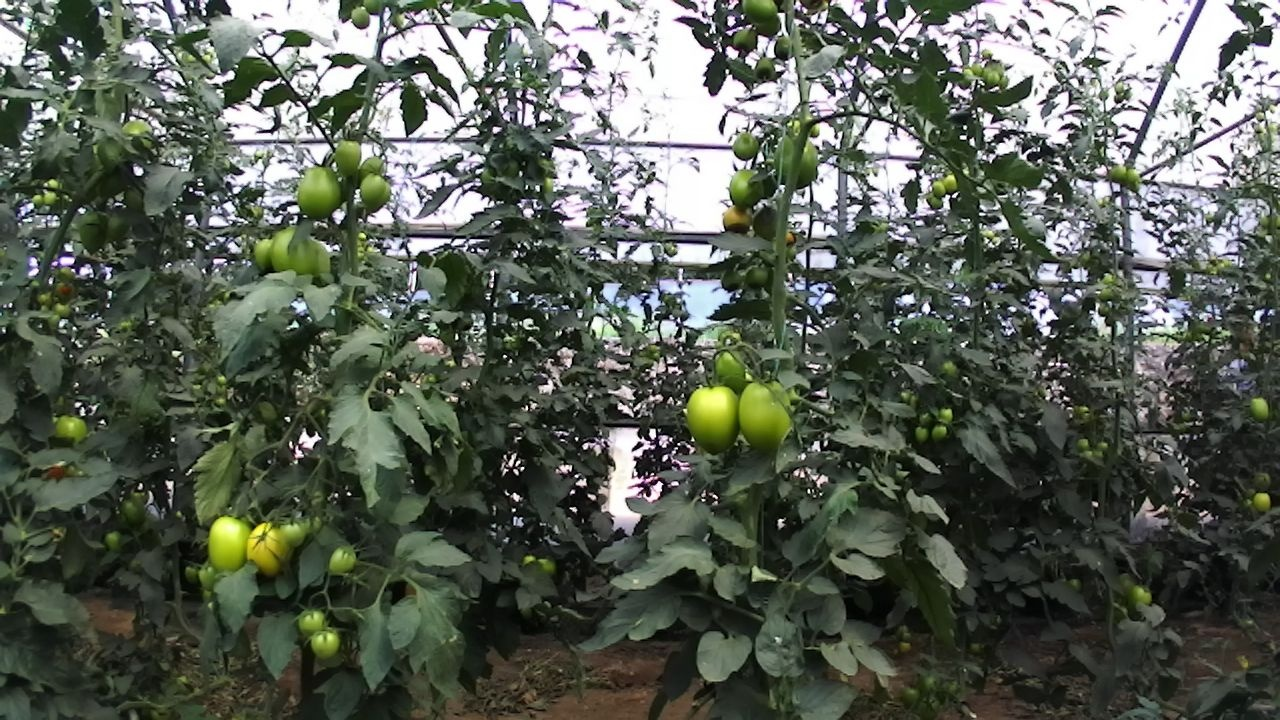tomato: (730, 363, 811, 462), (681, 370, 749, 464), (240, 506, 298, 585), (201, 506, 259, 584), (291, 158, 351, 226), (266, 218, 325, 287), (768, 125, 827, 193), (708, 343, 762, 401), (111, 107, 169, 160), (44, 397, 93, 458), (72, 204, 117, 261), (326, 129, 368, 185), (747, 197, 794, 247), (724, 164, 771, 214), (289, 599, 336, 647), (275, 508, 318, 556), (324, 536, 366, 585), (1119, 578, 1159, 629), (716, 199, 763, 242), (92, 133, 135, 177), (306, 619, 347, 665), (341, 0, 382, 41), (747, 4, 788, 45), (353, 148, 393, 190), (249, 231, 286, 276), (355, 166, 390, 212), (735, 0, 787, 30), (101, 206, 137, 249), (742, 255, 777, 299), (1242, 387, 1277, 428), (766, 28, 803, 66), (726, 126, 765, 162), (116, 489, 151, 528), (724, 21, 761, 56), (748, 49, 781, 86), (716, 261, 749, 297), (99, 524, 130, 558), (195, 560, 221, 594), (1248, 486, 1277, 516), (1104, 158, 1132, 187), (1119, 161, 1145, 191), (980, 65, 1006, 95), (926, 419, 951, 448), (911, 419, 934, 449), (50, 296, 76, 322), (180, 560, 204, 588), (939, 170, 964, 196), (935, 402, 957, 431), (967, 58, 989, 83), (39, 185, 60, 211), (928, 176, 950, 200), (924, 189, 945, 213), (1073, 432, 1093, 457), (28, 189, 47, 211), (994, 71, 1013, 93)
